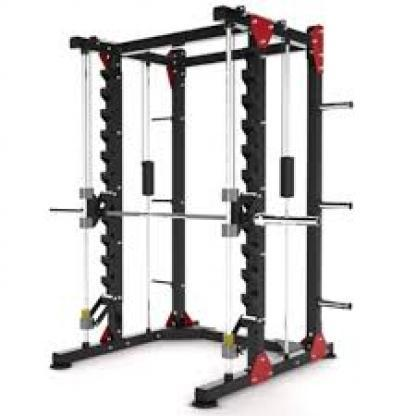smith machine: (49, 5, 353, 409)
